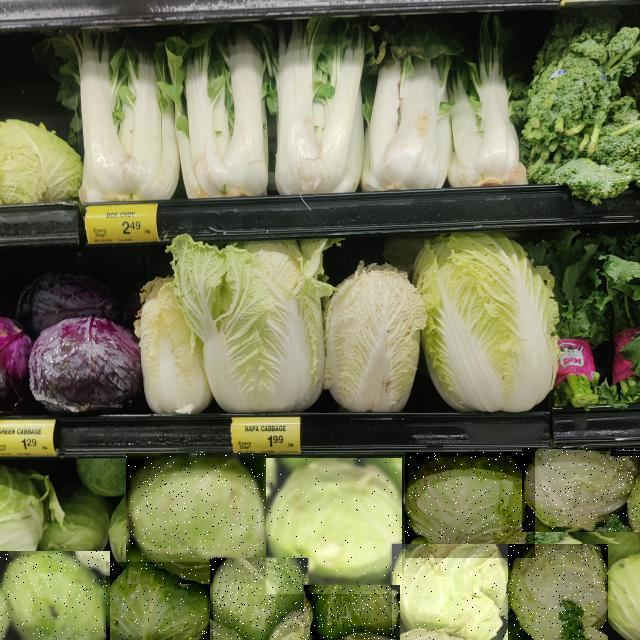Cabbage: (266, 458, 402, 594), (126, 453, 267, 584), (405, 452, 535, 558), (392, 544, 508, 640), (522, 448, 640, 532), (0, 551, 110, 640), (508, 544, 608, 640), (106, 562, 213, 640), (210, 558, 308, 640), (305, 585, 401, 640)
